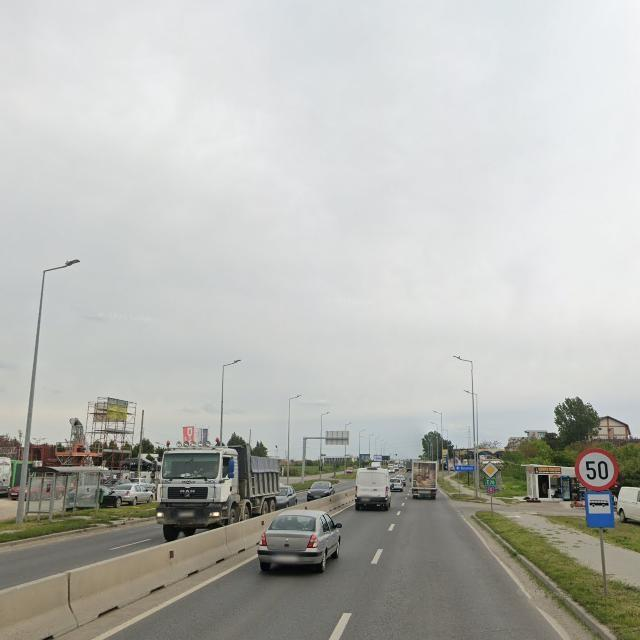forb_speed_over_50: (575, 447, 618, 490)
